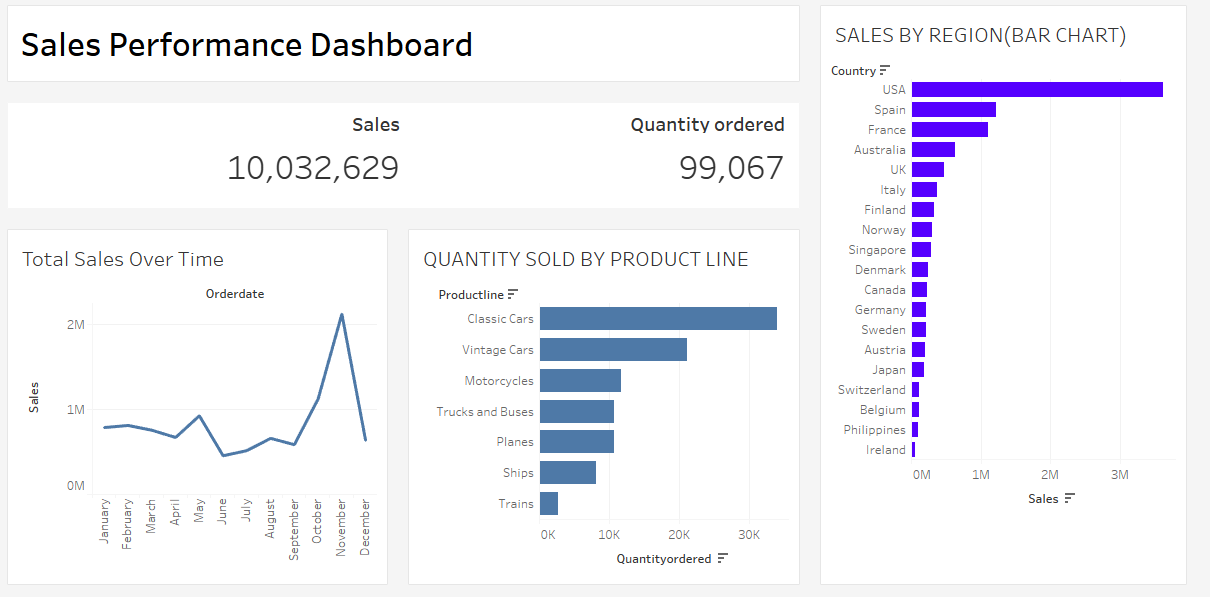

The dashboard page shown, as its layout file describes it:
{"tool":"tableau","page":{"name":"Dashboard 1","canvas":[1200,660],"ordinal":0},"visuals":[{"type":"text","box":[0,0,813,97]},{"type":"worksheet","title":"SALES BY REGION(BAR CHART)","mark":"Bar","rows":["COUNTRY"],"cols":["SALES"],"box":[813,0,387,600]},{"type":"worksheet","title":"KPIs Total Sales & Quantity ordered","mark":"Automatic","box":[0,97,813,127]},{"type":"worksheet","title":"Total Sales Over Time","mark":"Automatic","rows":["SALES"],"cols":["ORDERDATE"],"box":[0,224,400.9,376]},{"type":"worksheet","title":"QUANTITY SOLD BY PRODUCT LINE","mark":"Bar","rows":["PRODUCTLINE"],"cols":["QUANTITYORDERED"],"box":[400.9,224,412,376]}]}

Visuals, with their boxes on the page's 1200x660 design canvas (x1, y1, x2, y2). These are canvas units, not pixel positions in the 1210x597 screenshot, which may show the page scaled, cropped or inside an application window:
text: 0 0 813 97
"SALES BY REGION(BAR CHART)" worksheet (Bar marks): 813 0 1200 600
"KPIs Total Sales & Quantity ordered" worksheet: 0 97 813 224
"Total Sales Over Time" worksheet: 0 224 401 600
"QUANTITY SOLD BY PRODUCT LINE" worksheet (Bar marks): 401 224 813 600
